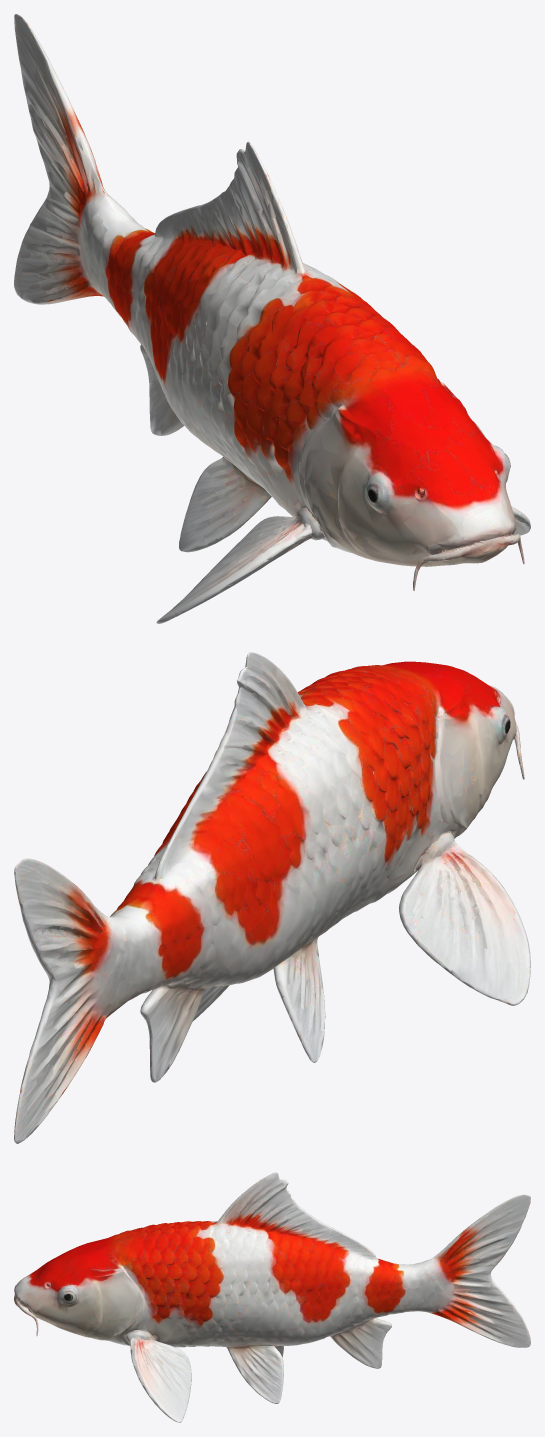
The model's file is koi.glb.
3 views of the same model, one above another, from view 1: azimuth 30°, elevation 25°; view 2: azimuth 150°, elevation 25°; view 3: azimuth 270°, elevation 25° (orthographic). The views are drawn at different scales.
Visible parts, largest first — view 1: Mesh_0; view 2: Mesh_0; view 3: Mesh_0.
Part boxes in pixels (box(x1,y1,x2,y2)): Mesh_0: box(14, 14, 530, 623); Mesh_0: box(14, 652, 530, 1143); Mesh_0: box(14, 1172, 530, 1422).
Size of the model in its own units: 0.4452 by 0.4564 by 0.9999.
Materials: 1 (1 with a texture image).
